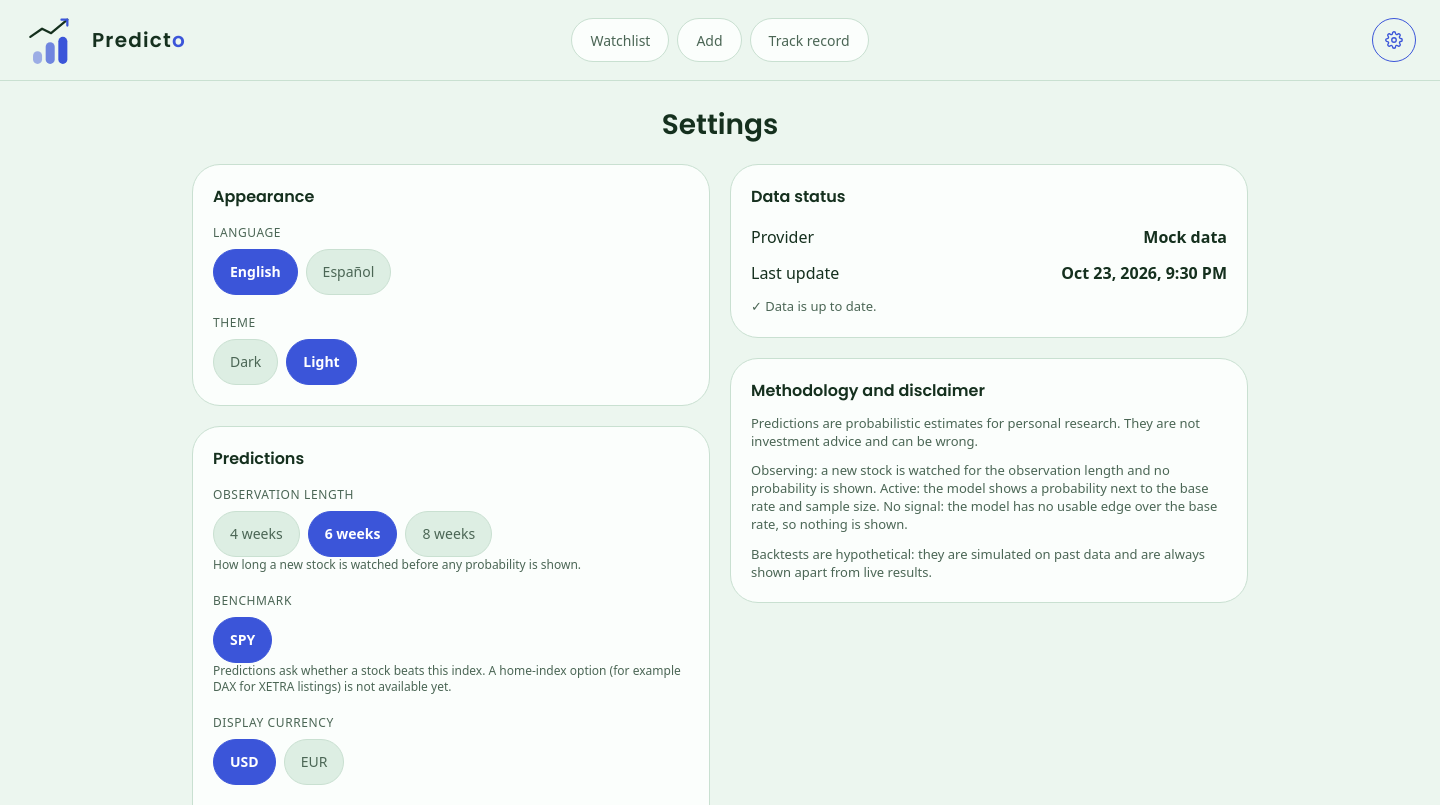
it: observation weeks are saved through the mock API
What coordinates should you click on to do the following:
click the button "8 weeks"
I would click on:
 (449, 534)
Its box is [406,511,492,557].
(page scrolled)
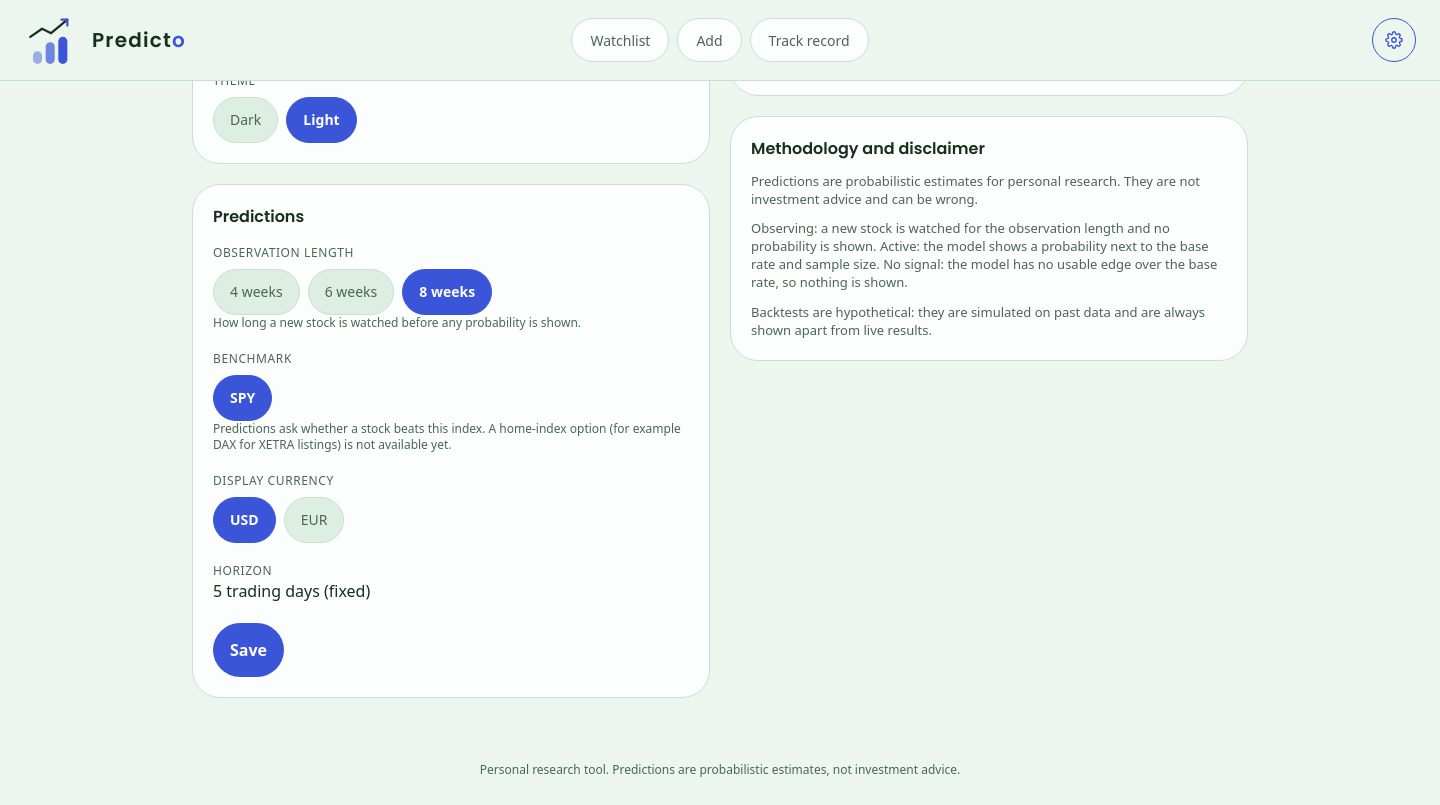
Expected: the button "8 weeks" is pressed, [402,269,492,315]
What coordinates should you click on to do the following:
click the button "Save"
I would click on:
 (248, 650)
Its box is [213,623,284,677].
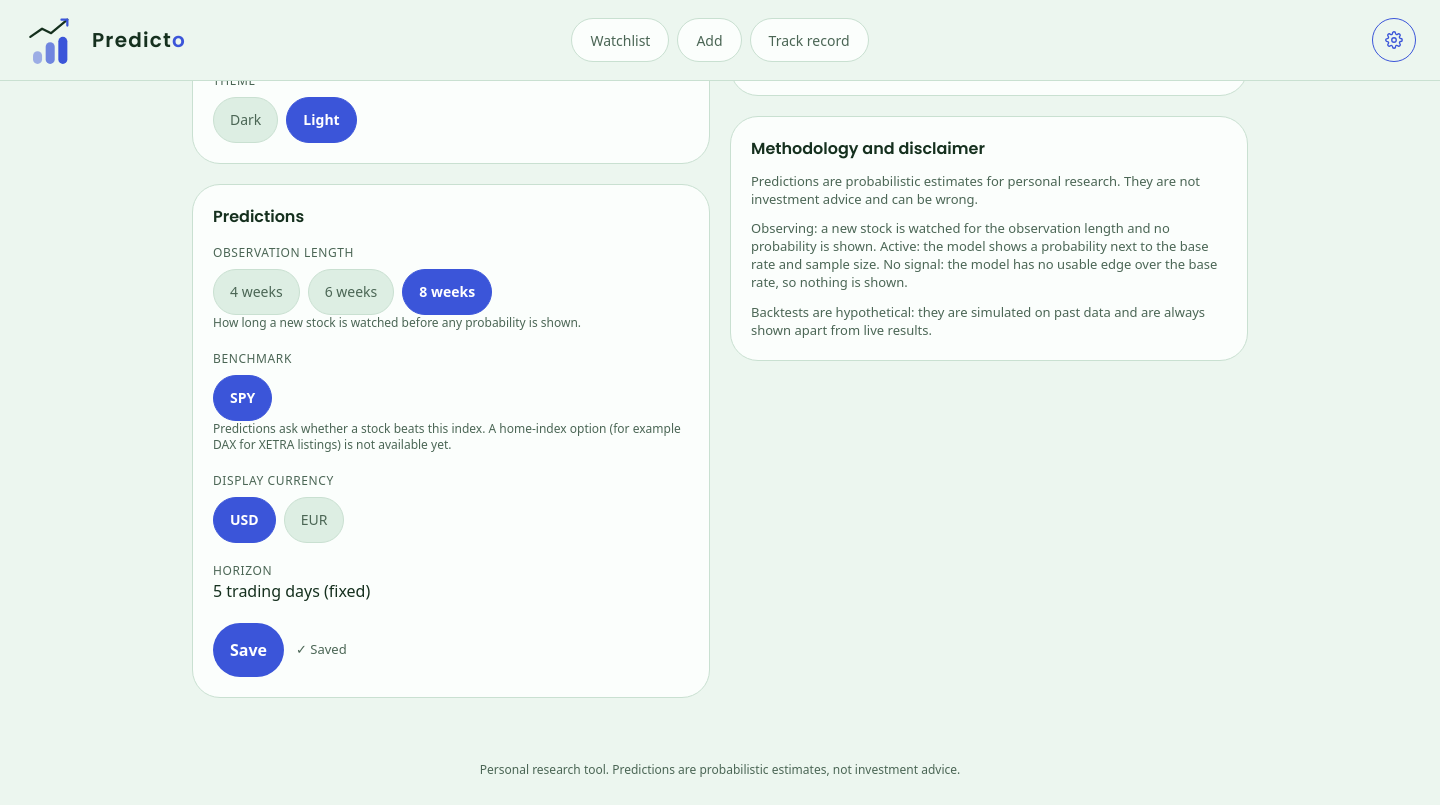
Expected: the text "✓ Saved" is shown, [296,640,347,660]
